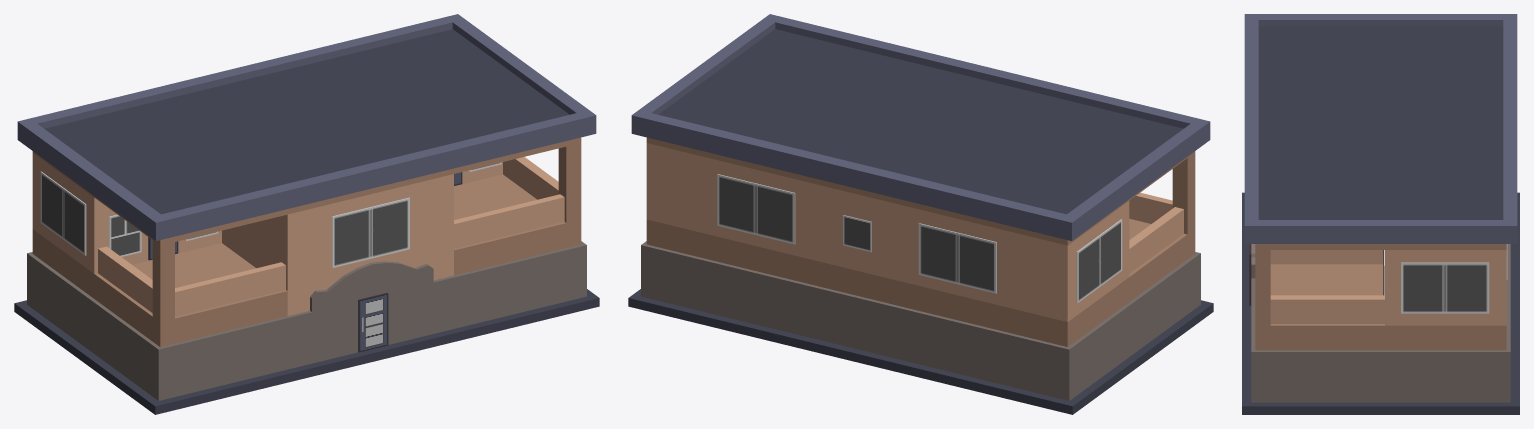
Rendered from house11_color03.fbx.
The picture shows the model from 3 angles, left to right: view 1: azimuth 30°, elevation 25°; view 2: azimuth 150°, elevation 25°; view 3: azimuth 270°, elevation 25°; orthographic projection.
Visible parts, largest first — view 1: house11_color03; view 2: house11_color03; view 3: house11_color03.
Boxes of the visible parts, <box> form: house11_color03: <box>14,14,599,414</box>; house11_color03: <box>628,14,1213,414</box>; house11_color03: <box>1242,14,1519,414</box>.
Bounding box in the file's own units: 1921 × 789 × 1055.
